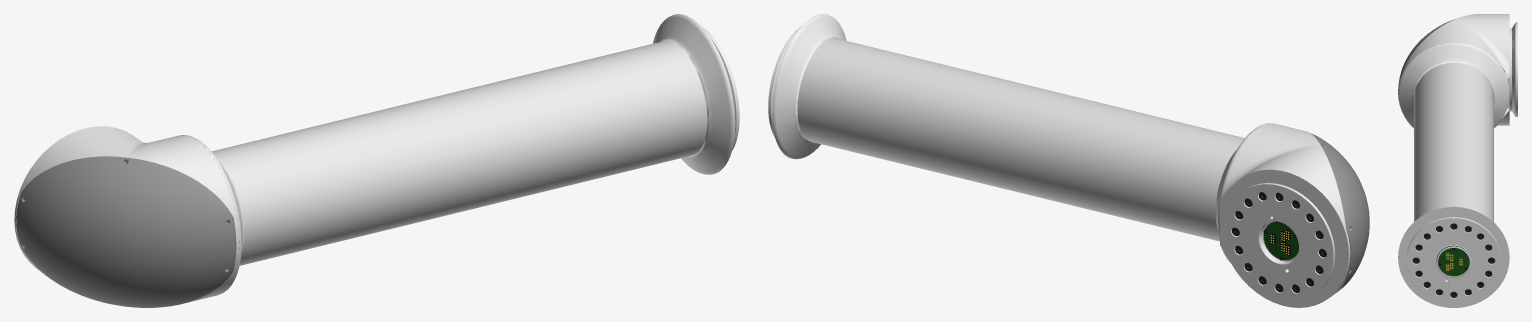
3 renders of one model, left to right at view 1: azimuth 30°, elevation 25°; view 2: azimuth 150°, elevation 25°; view 3: azimuth 270°, elevation 25°, orthographic. The views are drawn at different scales.
Parts seen in each view (by area): view 1: L148.001; view 2: L148.001; view 3: L148.001.
Boxes of the visible parts, x1,y1,x2,y2 form: L148.001: (14, 14, 739, 307); L148.001: (768, 14, 1369, 307); L148.001: (1398, 14, 1517, 307).
Size of the model in its own units: 0.6786 by 0.148 by 0.1589.
